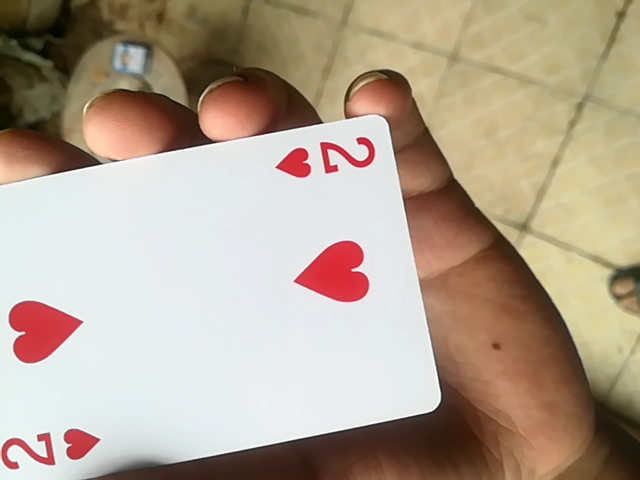hx 2: (4, 111, 443, 480)
